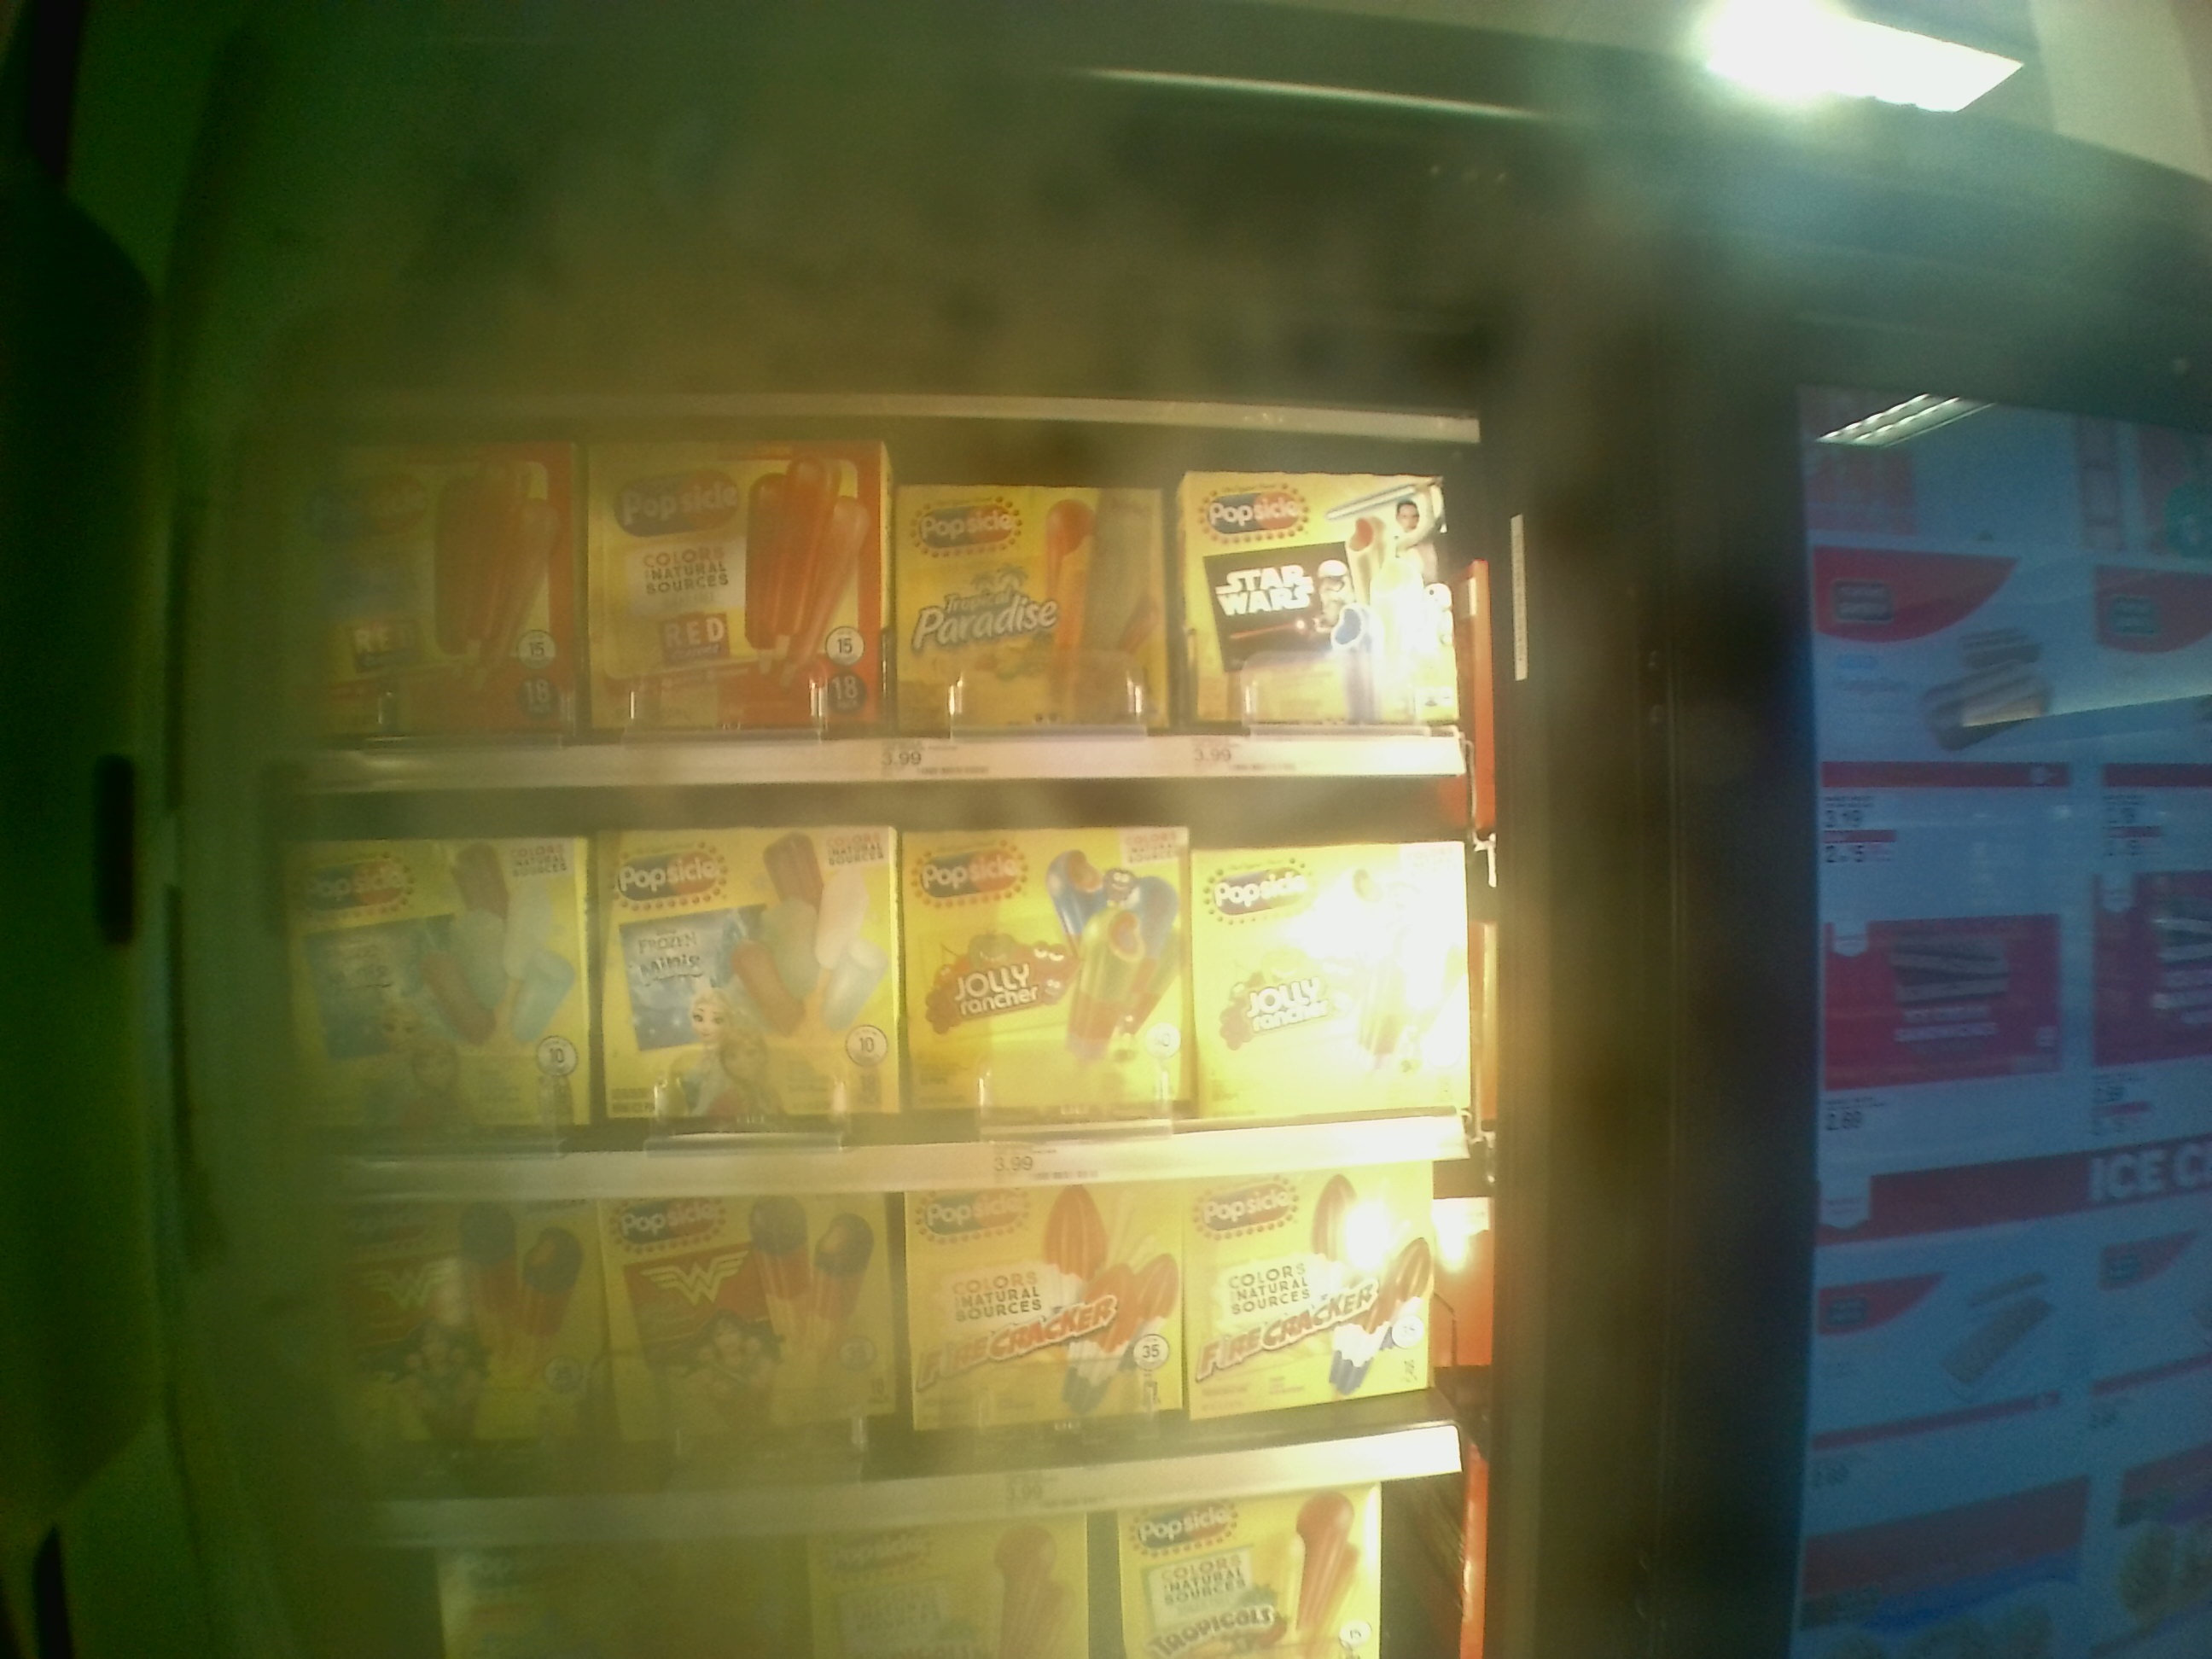shelf: (273, 786, 1486, 1202)
